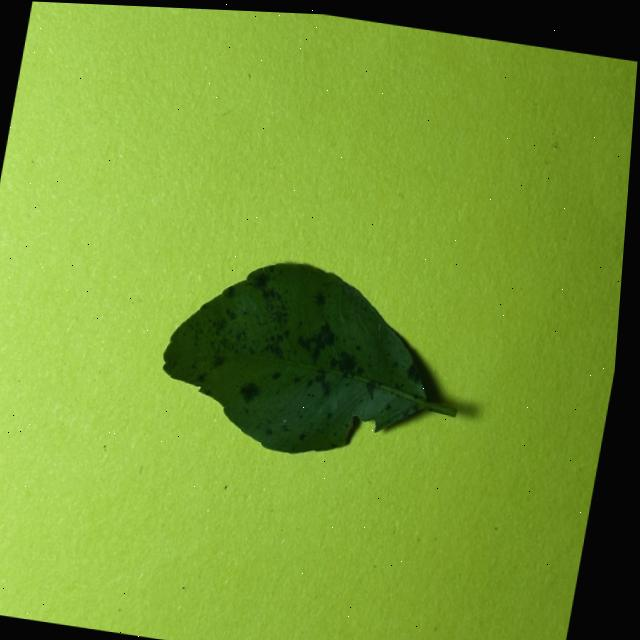sooty_mold: (163, 262, 455, 452)
